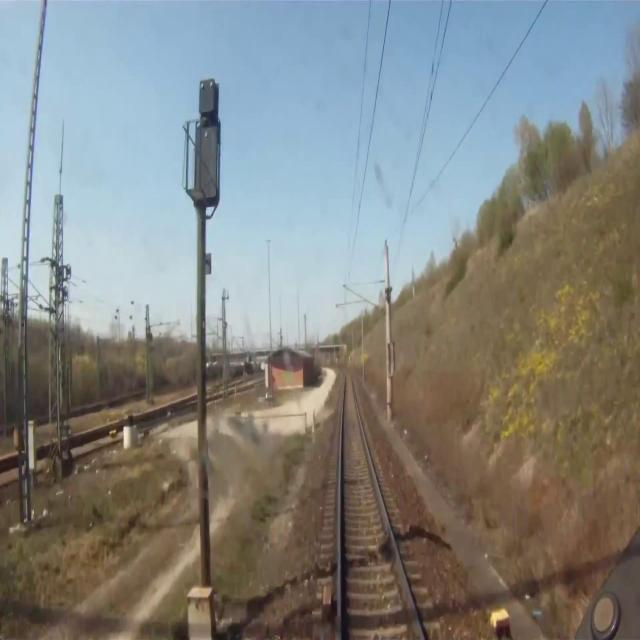rail-track: (342, 371, 420, 639)
